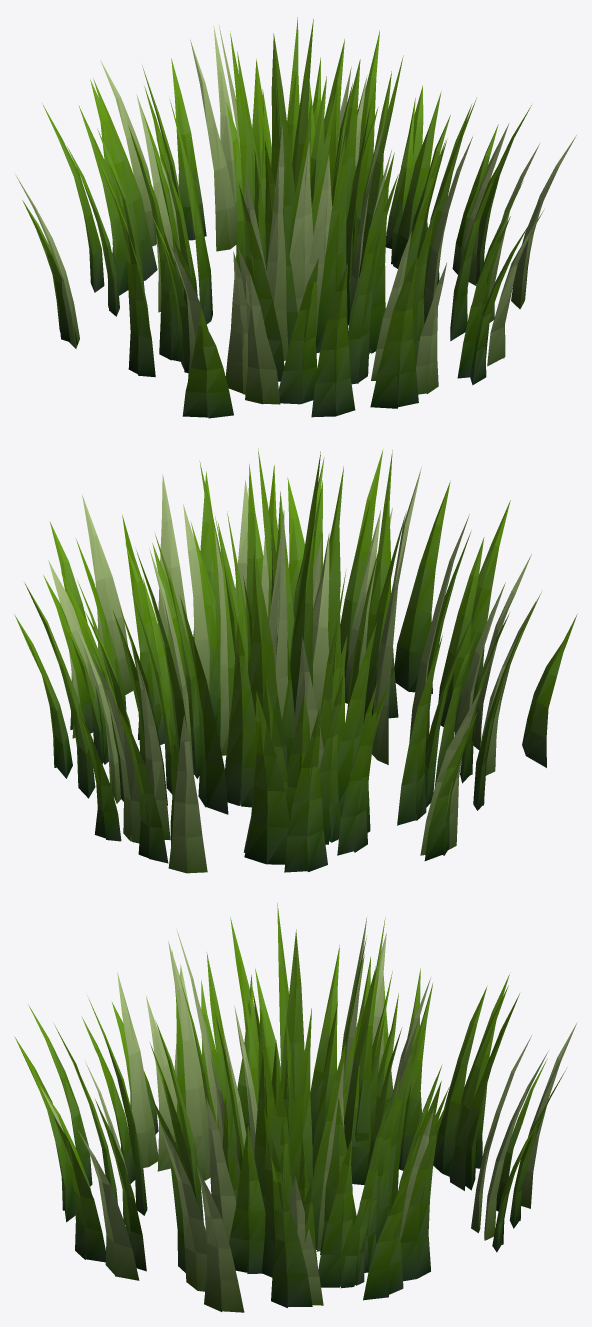
Rendered from vegetasi_grass_moss_574786.glb.
3 renders of one model, top to bottom at view 1: azimuth 30°, elevation 25°; view 2: azimuth 150°, elevation 25°; view 3: azimuth 270°, elevation 25°, orthographic. The views are drawn at different scales.
Visible parts, largest first — view 1: Rumpun_Rumput_Liar; view 2: Rumpun_Rumput_Liar; view 3: Rumpun_Rumput_Liar.
Part boxes in pixels (x1,y1,x2,y2): Rumpun_Rumput_Liar: (15,17,576,418); Rumpun_Rumput_Liar: (14,448,577,873); Rumpun_Rumput_Liar: (14,903,577,1312).
Bounding box in the file's own units: 3.24 × 2.01 × 3.39.
